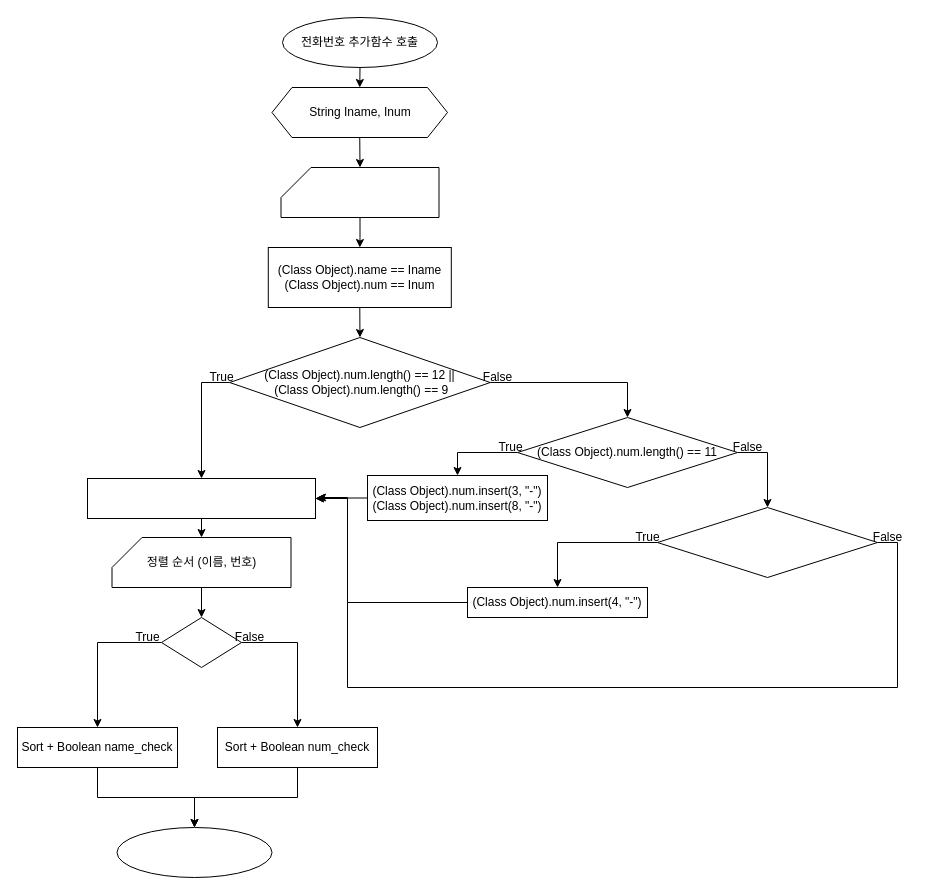
This 925x895 diagram has some shape labels left out. The shapes that lost their labels are listed below. From the top down, each one's centre as x and y in pixels, then its label:
point (359, 192): Iname, Inum
point (201, 498): (Vector Object).push_back(Class Object)
point (767, 542): (Class Object).num.length() == 8
point (201, 642): 이름
point (194, 852): 전화번호 추가함수 종료
